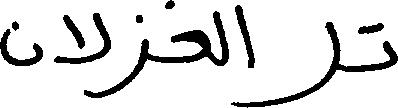X: (256, 17, 339, 107), (57, 8, 110, 102), (112, 10, 147, 98), (172, 0, 209, 67), (0, 16, 41, 70), (237, 0, 254, 107), (214, 6, 228, 70), (383, 20, 397, 73)
